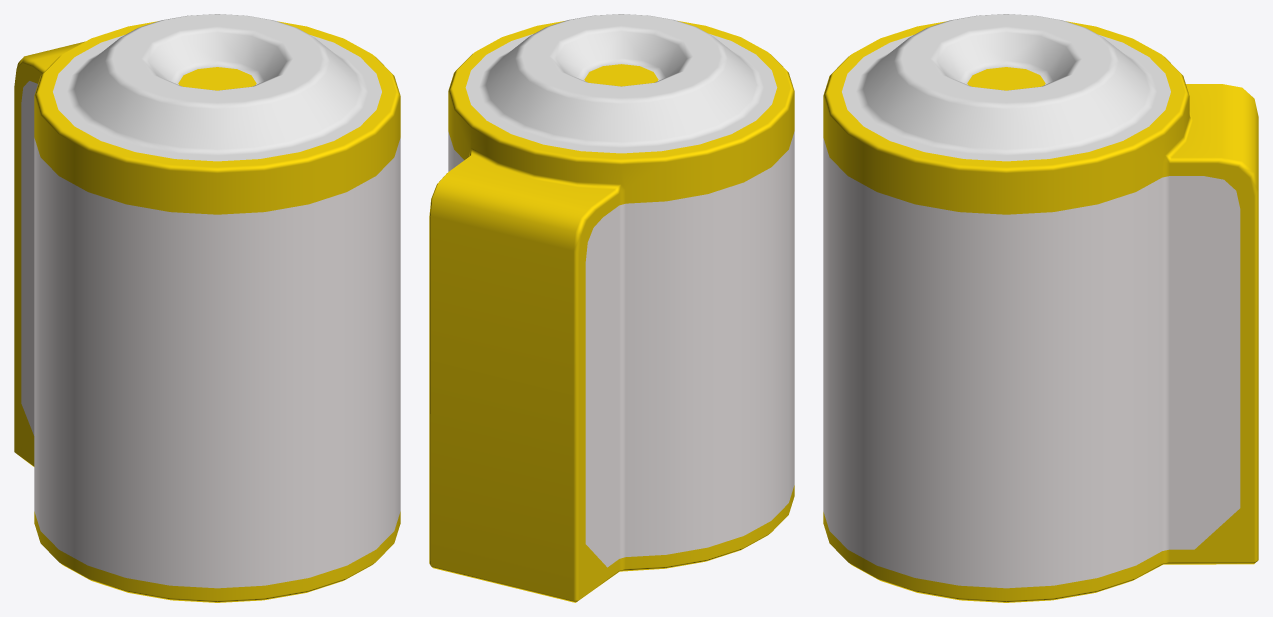
Rendered from Battery Cell.fbx.
3 views of the same model, side by side, from view 1: azimuth 30°, elevation 25°; view 2: azimuth 150°, elevation 25°; view 3: azimuth 270°, elevation 25° (orthographic). The views are drawn at different scales.
Visible parts, largest first — view 1: Container003; view 2: Container003; view 3: Container003.
Boxes of the visible parts, box(x1,y1,x2,y2) form: Container003: box(14, 14, 400, 602); Container003: box(429, 14, 794, 602); Container003: box(823, 14, 1258, 602).
Size of the model in its own units: 182 by 257 by 216.
